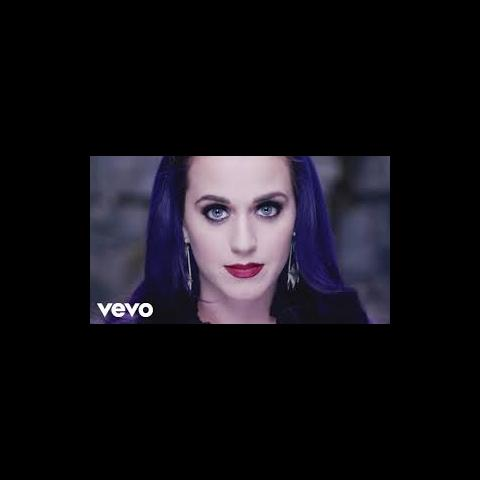opened: (198, 196, 288, 227)
